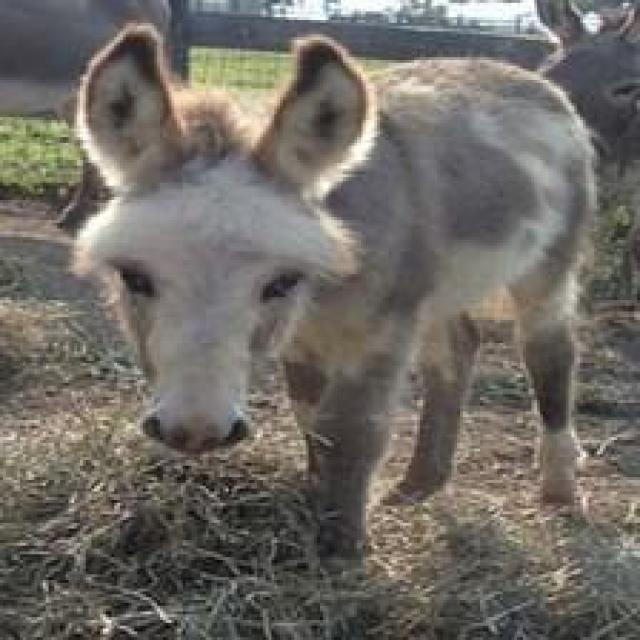Donkey: (69, 20, 600, 569), (0, 0, 188, 231), (529, 0, 637, 309)
